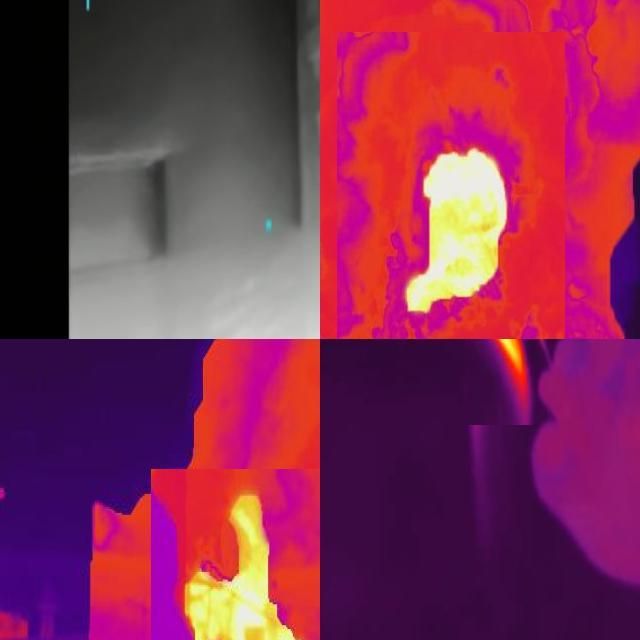fire: (337, 32, 565, 340), (151, 469, 321, 640), (465, 340, 536, 425)
